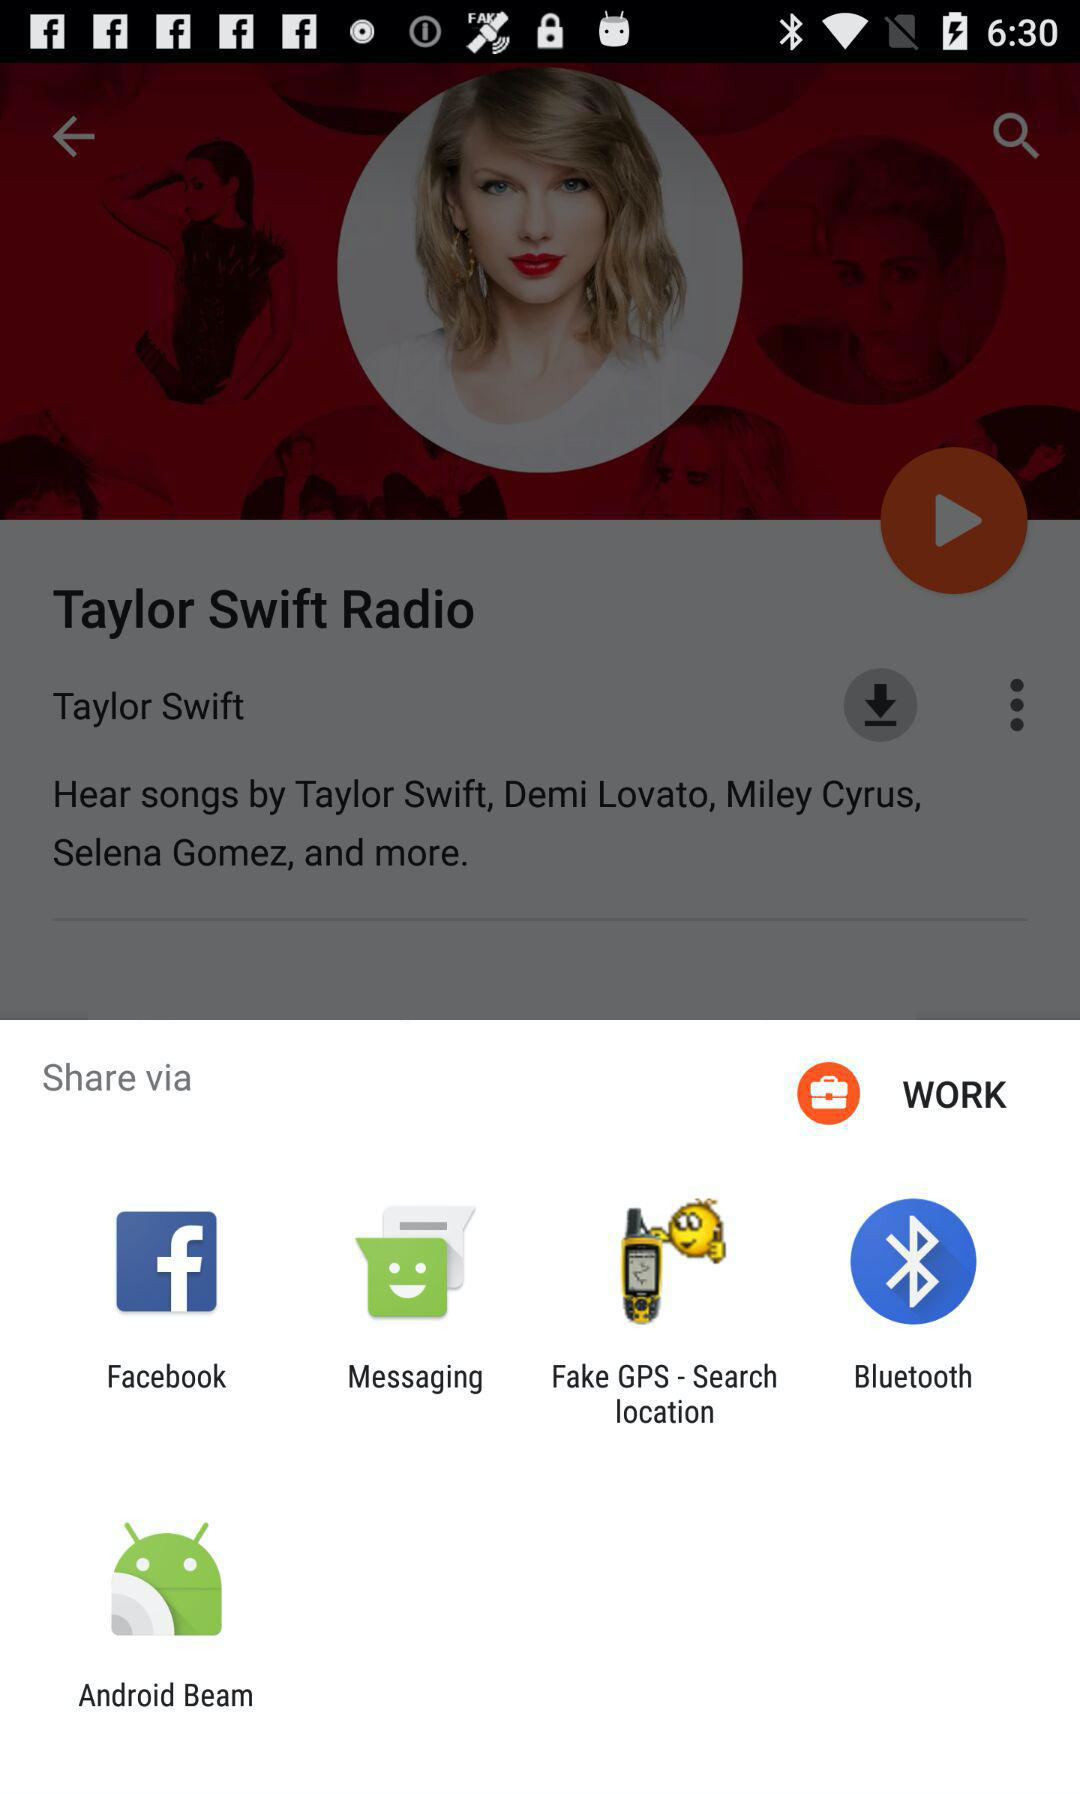Icon: (879, 446, 1029, 596), (849, 1198, 978, 1326), (117, 1211, 218, 1313), (842, 668, 920, 745), (796, 1061, 861, 1126), (992, 113, 1042, 161), (53, 115, 97, 160), (1007, 678, 1025, 734)
Image: (3, 65, 1080, 522), (620, 1197, 728, 1326), (355, 1205, 477, 1319), (111, 1522, 224, 1636)
Modal: (1, 1020, 1080, 1794)
Text: (53, 779, 922, 873), (54, 586, 477, 641), (553, 1362, 778, 1425), (53, 689, 245, 730), (78, 1681, 254, 1708), (44, 1062, 193, 1093), (348, 1363, 484, 1395), (109, 1362, 228, 1390), (855, 1362, 972, 1390), (902, 1080, 1008, 1110)
UpperTaskBar: (1, 1, 1080, 64)
